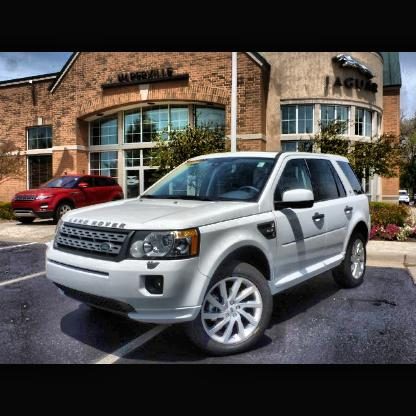Land Rover LR2 SUV 2012: (45, 152, 373, 354)
